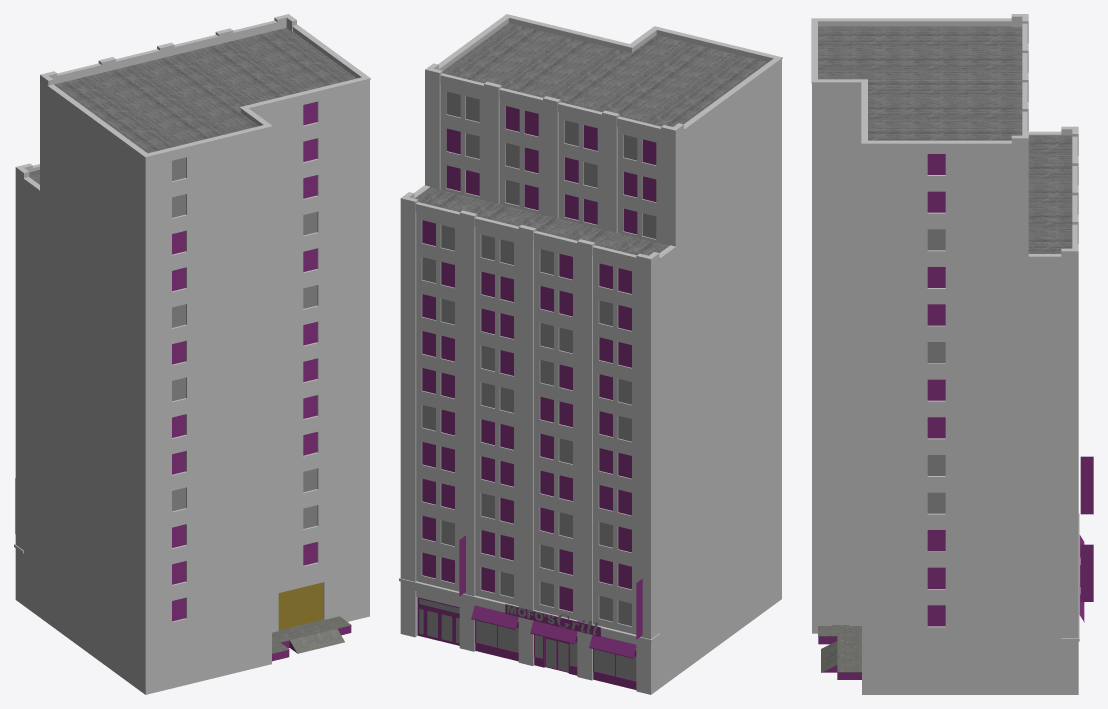
The model's file is mcp_building_06_LOD_1.FBX.
The picture shows the model from 3 angles, left to right: view 1: azimuth 30°, elevation 25°; view 2: azimuth 150°, elevation 25°; view 3: azimuth 270°, elevation 25°; orthographic projection. The views are drawn at different scales.
Parts seen in each view (by area): view 1: mcp_building_06_brick_03, mcp_building_06_rooftop, mcp_building_06_brick_02, mcp_building_06, mcp_building_06_brick_01, mcp_building_06_concrete_02, mcp_building_06_metal, mcp_building_06_concrete_01, Object276; view 2: mcp_building_06_brick_01, mcp_building_06_brick_03, mcp_building_06, mcp_building_06_rooftop, mcp_building_06_concrete_02, mcp_building_06_brick_02, mcp_building_06_metal; view 3: mcp_building_06_brick_03, mcp_building_06_rooftop, mcp_building_06_brick_02, mcp_building_06_brick_01, mcp_building_06, mcp_building_06_concrete_02, mcp_building_06_metal, mcp_building_06_concrete_01, mcp_building_06_doors.
Part boxes in pixels (x1,y1,x2,y2): mcp_building_06_brick_03: (24,25,369,639); mcp_building_06_rooftop: (29,28,356,184); mcp_building_06_brick_02: (24,551,369,694); mcp_building_06: (15,101,351,661); mcp_building_06_brick_01: (15,26,292,605); mcp_building_06_concrete_02: (14,14,369,559); mcp_building_06_metal: (23,24,370,190); mcp_building_06_concrete_01: (272,616,351,653); Object276: (278,582,323,630); mcp_building_06_brick_01: (400,78,683,694); mcp_building_06_brick_03: (440,19,781,632); mcp_building_06: (417,91,656,689); mcp_building_06_rooftop: (415,23,767,255); mcp_building_06_concrete_02: (399,59,781,648); mcp_building_06_brick_02: (659,544,781,688); mcp_building_06_metal: (414,14,782,259); mcp_building_06_brick_03: (812,22,1061,638); mcp_building_06_rooftop: (818,26,1072,253); mcp_building_06_brick_02: (812,577,1061,694); mcp_building_06_brick_01: (1011,25,1078,694); mcp_building_06: (818,154,1093,679); mcp_building_06_concrete_02: (812,14,1079,647); mcp_building_06_metal: (811,18,1061,257); mcp_building_06_concrete_01: (818,625,861,672); mcp_building_06_doors: (832,595,849,624).
Bounding box in the file's own units: 2574 × 5329 × 2450.
